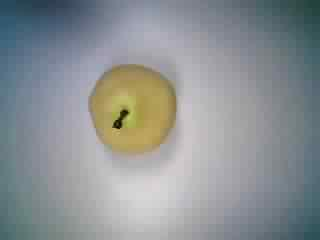pear: (72, 60, 187, 160)
